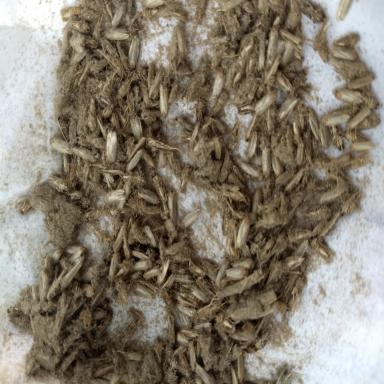pbw: (278, 266, 302, 303), (219, 2, 241, 41), (266, 229, 290, 261), (216, 184, 249, 207), (112, 214, 131, 253), (312, 16, 332, 52), (331, 58, 367, 78), (233, 38, 254, 72), (253, 210, 285, 232), (252, 322, 274, 354), (46, 268, 68, 300), (318, 209, 342, 238), (319, 181, 348, 205), (233, 74, 254, 107), (174, 286, 204, 309), (288, 274, 307, 310), (298, 0, 326, 24), (338, 187, 362, 215), (146, 134, 182, 152), (263, 54, 283, 86), (282, 197, 304, 226), (59, 256, 83, 282), (308, 236, 332, 262), (64, 293, 86, 321), (352, 113, 381, 134), (95, 308, 114, 340), (99, 67, 118, 98), (125, 10, 142, 44), (254, 90, 278, 114), (218, 337, 234, 373), (30, 194, 60, 213), (151, 171, 168, 204), (60, 346, 80, 374), (264, 260, 284, 288), (83, 202, 111, 222), (115, 72, 135, 100), (333, 88, 364, 106), (346, 106, 370, 129), (356, 88, 380, 111), (322, 108, 351, 127), (279, 27, 304, 49), (178, 350, 194, 384), (245, 42, 260, 78), (269, 0, 289, 27), (285, 167, 305, 194), (213, 258, 232, 286), (276, 97, 298, 121), (117, 317, 139, 341), (213, 311, 235, 335), (292, 96, 307, 131), (149, 65, 164, 100), (312, 34, 330, 63), (346, 150, 372, 170), (287, 225, 314, 244), (146, 350, 162, 382), (227, 119, 243, 151), (236, 215, 251, 249), (130, 218, 148, 246), (95, 164, 126, 180), (210, 91, 228, 118), (180, 209, 202, 231), (105, 127, 118, 164), (219, 147, 232, 184), (262, 170, 277, 202), (137, 186, 161, 206), (117, 179, 132, 211), (114, 276, 130, 306), (132, 280, 156, 300), (48, 137, 73, 156), (266, 27, 278, 66), (200, 258, 218, 284), (77, 60, 90, 96), (109, 110, 124, 141), (343, 126, 372, 142), (307, 107, 321, 140), (245, 110, 259, 143), (348, 72, 375, 89), (331, 45, 358, 62), (328, 152, 352, 171), (237, 12, 252, 42), (179, 162, 194, 192), (123, 89, 135, 126), (292, 66, 309, 92), (212, 66, 225, 100), (210, 42, 227, 68), (275, 68, 292, 94), (284, 40, 306, 60), (190, 282, 210, 304), (204, 115, 226, 135), (99, 38, 119, 60), (166, 149, 182, 176), (303, 128, 314, 167), (335, 32, 360, 49), (72, 146, 97, 163), (156, 258, 170, 288), (194, 91, 206, 126), (279, 41, 293, 71), (230, 329, 258, 344), (82, 262, 102, 283), (48, 175, 69, 195), (110, 344, 124, 374), (108, 252, 121, 284), (299, 160, 312, 192), (307, 205, 333, 221), (82, 134, 106, 151), (280, 58, 304, 75), (128, 35, 140, 69), (245, 130, 259, 159), (223, 61, 237, 90), (257, 236, 276, 257), (128, 65, 149, 84), (76, 105, 87, 141), (56, 115, 70, 143), (211, 132, 224, 162), (153, 336, 166, 366), (161, 286, 176, 312), (176, 25, 187, 60), (261, 193, 281, 212), (194, 363, 213, 383), (138, 79, 152, 106), (64, 319, 91, 333), (276, 168, 294, 189), (112, 3, 127, 28), (283, 256, 305, 273), (38, 270, 50, 301), (159, 82, 169, 119), (92, 363, 115, 379), (331, 126, 345, 152), (348, 138, 374, 152), (129, 114, 143, 140), (116, 348, 144, 361), (214, 44, 240, 58), (208, 158, 222, 184), (266, 106, 278, 136), (167, 188, 177, 224), (92, 13, 104, 43), (224, 266, 248, 281), (193, 132, 208, 156), (142, 119, 163, 136), (192, 163, 214, 179), (236, 100, 258, 116), (271, 151, 284, 178), (318, 119, 330, 148), (60, 5, 83, 20), (89, 58, 108, 76), (251, 188, 262, 219), (60, 28, 70, 62), (166, 313, 176, 347), (104, 27, 130, 40), (78, 8, 104, 21), (104, 189, 125, 205), (129, 148, 143, 172), (69, 19, 90, 35), (240, 162, 261, 178), (314, 178, 336, 193), (222, 206, 233, 236), (262, 144, 272, 177), (95, 115, 108, 140), (188, 259, 206, 277), (87, 97, 96, 133), (46, 246, 63, 265), (68, 50, 87, 67), (208, 32, 231, 46), (294, 136, 304, 168), (164, 240, 184, 256), (89, 287, 104, 308), (216, 0, 242, 12), (170, 272, 196, 284), (64, 243, 88, 256), (188, 122, 200, 148), (68, 115, 78, 146), (141, 204, 163, 218), (257, 39, 266, 73), (236, 350, 245, 384), (166, 354, 181, 374), (177, 303, 197, 318), (230, 258, 255, 270), (143, 225, 156, 248), (82, 161, 92, 190), (158, 136, 167, 168), (148, 125, 157, 157), (194, 0, 206, 24), (175, 117, 193, 133), (142, 264, 160, 280), (168, 80, 179, 106), (162, 271, 177, 290), (80, 34, 99, 49), (284, 126, 294, 154), (142, 150, 156, 170), (170, 252, 190, 266), (122, 232, 131, 260), (139, 7, 160, 19), (188, 340, 196, 371), (100, 0, 113, 19), (69, 158, 77, 188), (90, 338, 110, 350), (66, 189, 83, 203), (168, 10, 187, 22), (91, 308, 107, 322), (133, 259, 150, 272), (179, 328, 199, 339), (158, 237, 166, 264), (147, 62, 155, 89), (176, 332, 190, 347), (61, 153, 71, 174), (101, 102, 114, 118), (293, 120, 302, 143), (130, 250, 150, 260), (144, 0, 165, 9), (7, 305, 22, 316)
